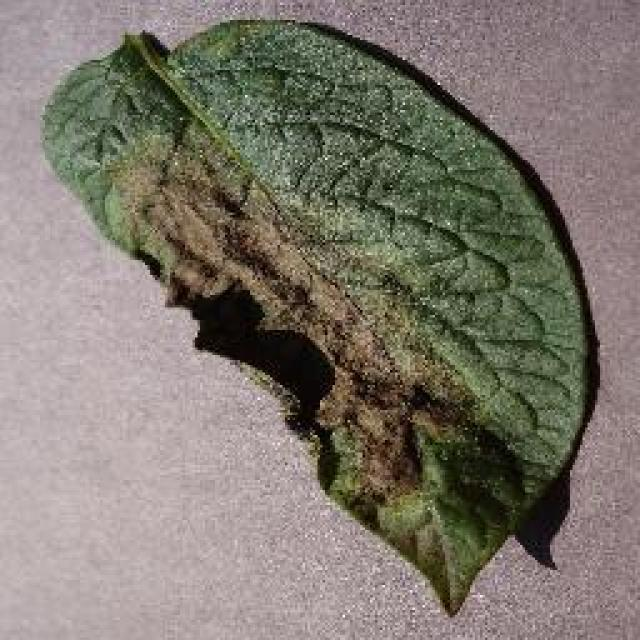Potato___Late_blight: (35, 16, 592, 624)
